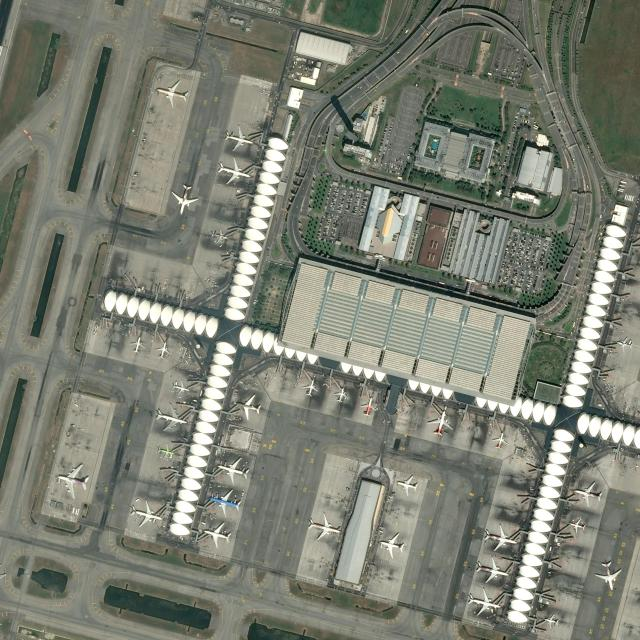aircraft: (56, 464, 88, 498), (467, 586, 502, 616), (217, 455, 248, 485), (130, 498, 162, 527), (217, 156, 250, 184), (308, 512, 341, 540), (482, 524, 516, 551), (170, 183, 198, 215), (154, 403, 186, 431), (209, 488, 241, 516), (475, 556, 509, 582), (156, 80, 188, 107), (594, 560, 621, 592), (223, 124, 253, 151), (203, 520, 231, 548), (574, 480, 602, 507), (427, 409, 452, 436), (235, 394, 260, 419), (380, 532, 404, 558), (397, 474, 418, 496), (302, 378, 318, 397), (568, 518, 586, 534), (361, 397, 376, 416), (129, 336, 145, 352), (172, 380, 188, 396), (157, 442, 173, 458), (492, 432, 507, 449), (210, 228, 228, 242), (156, 341, 170, 358), (617, 336, 632, 351), (544, 612, 558, 628), (334, 387, 348, 402)
